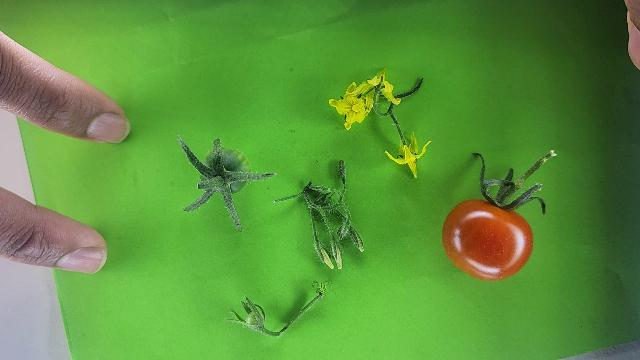Anthesis: (329, 74, 381, 128), (384, 132, 432, 179), (364, 67, 400, 107)
Flower Bud: (354, 230, 364, 252), (323, 251, 334, 269), (335, 246, 342, 267)
Fruit Bud: (245, 311, 260, 326)
Fruit Maturation: (202, 145, 254, 194)
Fully Grown: (440, 198, 535, 283)
